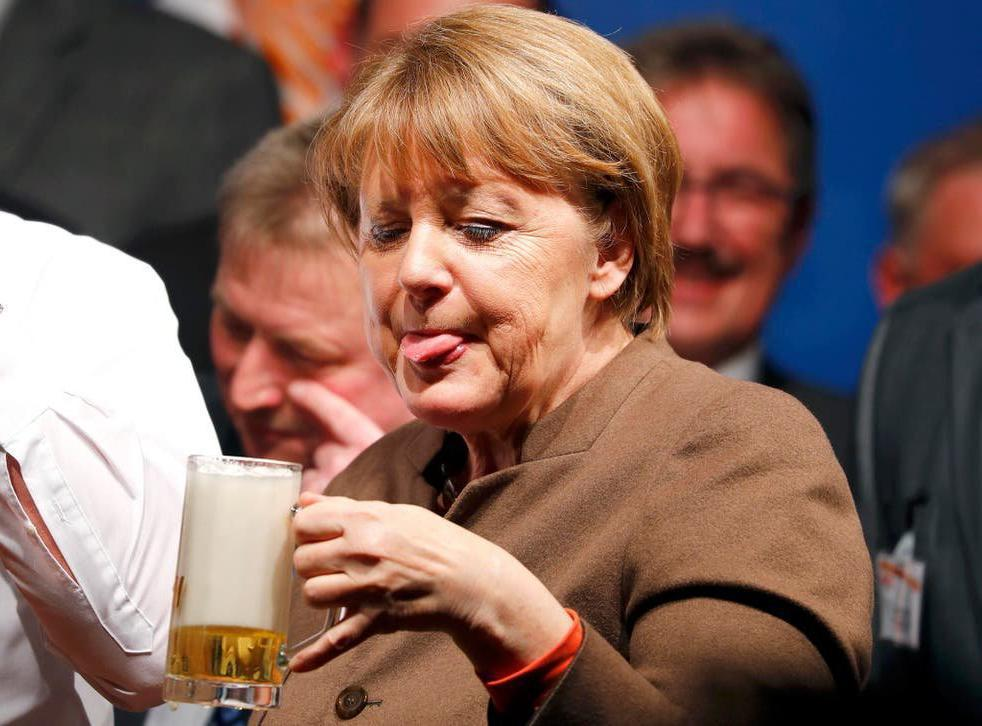Drunk: (357, 162, 559, 415)
